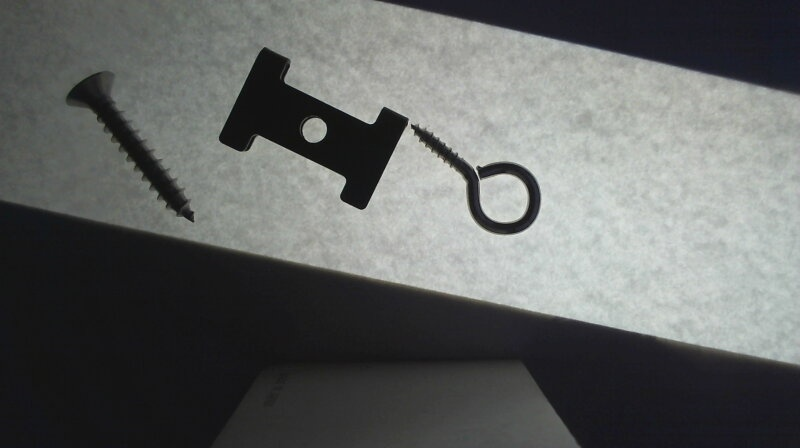O001: (410, 122, 541, 235)
O002: (217, 47, 408, 209)
S001: (62, 68, 198, 223)
